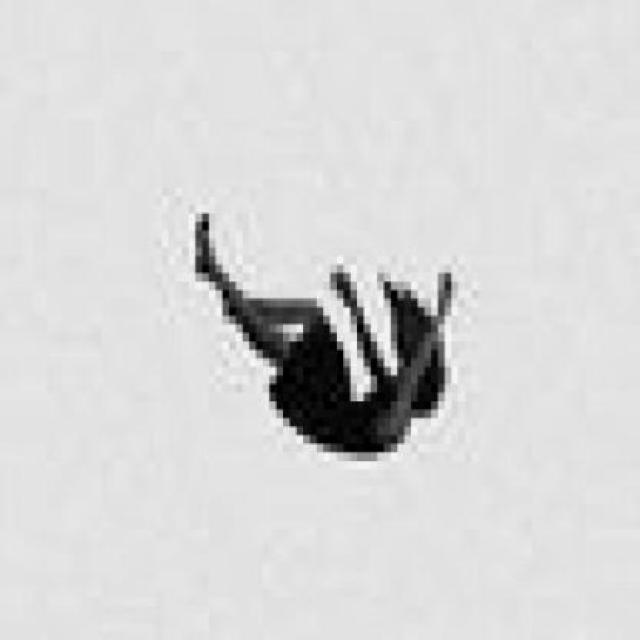fall: (184, 203, 456, 455)
